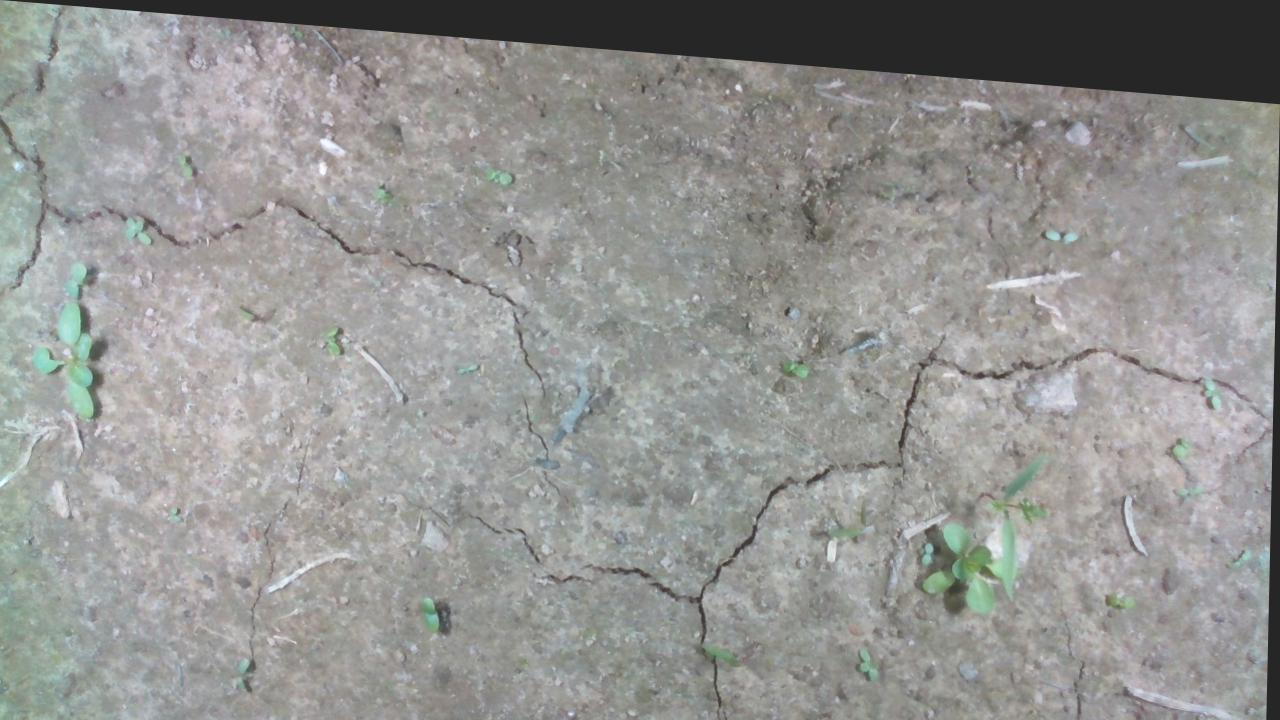weed: (310, 313, 373, 354), (412, 585, 450, 629), (174, 143, 217, 181), (114, 212, 160, 245), (856, 629, 886, 673), (1202, 356, 1229, 402), (780, 337, 824, 363), (1037, 204, 1082, 228), (487, 155, 520, 181), (1111, 570, 1142, 596), (1164, 409, 1188, 442), (369, 175, 394, 193), (921, 524, 935, 550)
